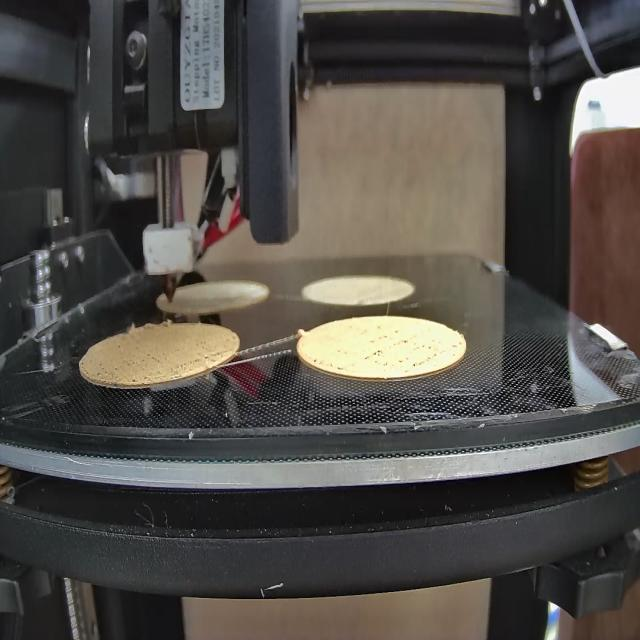under_extrusion: (365, 327, 440, 369), (96, 345, 166, 385), (183, 344, 232, 370), (309, 350, 347, 375)
